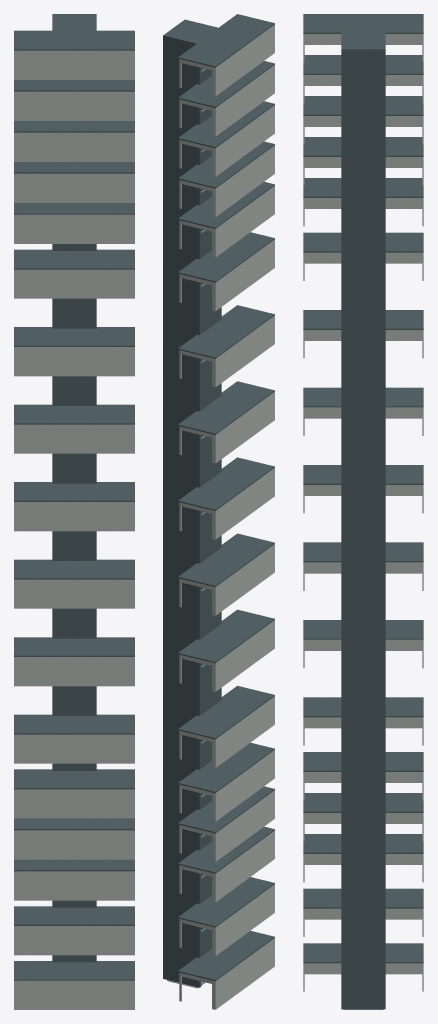
Rendered from AST-STF-G3-002.glb.
The picture shows the model from 3 angles, left to right: view 1: azimuth 90°, elevation 25°; view 2: azimuth 150°, elevation 25°; view 3: azimuth 270°, elevation 25°; orthographic projection.
Visible parts, largest first — view 1: lobby_wall_staff_white_paint_y0, lobby_wall_staff_white_paint_y2, lobby_wall_staff_white_paint_y11, lobby_wall_staff_white_paint_y12, overhead_staff_bluegrey_paint_y3, overhead_staff_bluegrey_paint_y1, overhead_staff_bluegrey_paint_y10, lobby_wall_staff_white_paint_y1, lobby_wall_staff_white_paint_y3, lobby_wall_staff_white_paint_y4, lobby_wall_staff_white_paint_y5, lobby_wall_staff_white_paint_y6 (+23 smaller); view 2: overhead_staff_bluegrey_paint_y3, lobby_wall_staff_white_paint_y2, lobby_wall_staff_white_paint_y11, lobby_wall_staff_white_paint_y12, lobby_wall_staff_white_paint_y0, overhead_staff_bluegrey_paint_y1, overhead_staff_bluegrey_paint_y10, shaft_architecture_staff_bluegrey_paint_y7, overhead_staff_bluegrey_paint_y13, shaft_architecture_staff_bluegrey_paint_y5, shaft_architecture_staff_bluegrey_paint_y6, shaft_architecture_staff_bluegrey_paint_y4 (+28 smaller); view 3: shaft_architecture_staff_bluegrey_paint_y0, shaft_architecture_staff_bluegrey_paint_y1, shaft_architecture_staff_bluegrey_paint_y2, shaft_architecture_staff_bluegrey_paint_y3, shaft_architecture_staff_bluegrey_paint_y4, shaft_architecture_staff_bluegrey_paint_y5, shaft_architecture_staff_bluegrey_paint_y10, shaft_architecture_staff_bluegrey_paint_y11, shaft_architecture_staff_bluegrey_paint_y12, shaft_architecture_staff_bluegrey_paint_y6, shaft_architecture_staff_bluegrey_paint_y7, shaft_architecture_staff_bluegrey_paint_y8 (+28 smaller).
Part boxes in pixels (x1=…): lobby_wall_staff_white_paint_y0: x1=14, y1=926, x2=134, y2=1009; lobby_wall_staff_white_paint_y2: x1=14, y1=789, x2=134, y2=859; lobby_wall_staff_white_paint_y11: x1=14, y1=132, x2=134, y2=202; lobby_wall_staff_white_paint_y12: x1=14, y1=50, x2=134, y2=120; overhead_staff_bluegrey_paint_y3: x1=14, y1=714, x2=134, y2=789; overhead_staff_bluegrey_paint_y1: x1=14, y1=859, x2=134, y2=925; overhead_staff_bluegrey_paint_y10: x1=14, y1=203, x2=134, y2=269; lobby_wall_staff_white_paint_y1: x1=14, y1=871, x2=134, y2=900; lobby_wall_staff_white_paint_y3: x1=14, y1=734, x2=134, y2=763; lobby_wall_staff_white_paint_y4: x1=14, y1=657, x2=134, y2=686; lobby_wall_staff_white_paint_y5: x1=14, y1=579, x2=134, y2=608; lobby_wall_staff_white_paint_y6: x1=14, y1=502, x2=134, y2=531; overhead_staff_bluegrey_paint_y3: x1=178, y1=685, x2=274, y2=792; lobby_wall_staff_white_paint_y2: x1=179, y1=750, x2=274, y2=861; lobby_wall_staff_white_paint_y11: x1=179, y1=105, x2=274, y2=217; lobby_wall_staff_white_paint_y12: x1=179, y1=24, x2=274, y2=136; lobby_wall_staff_white_paint_y0: x1=179, y1=884, x2=274, y2=1009; overhead_staff_bluegrey_paint_y1: x1=178, y1=826, x2=274, y2=927; overhead_staff_bluegrey_paint_y10: x1=178, y1=181, x2=274, y2=282; shaft_architecture_staff_bluegrey_paint_y7: x1=163, y1=360, x2=221, y2=485; overhead_staff_bluegrey_paint_y13: x1=163, y1=14, x2=274, y2=67; shaft_architecture_staff_bluegrey_paint_y5: x1=163, y1=512, x2=221, y2=628; shaft_architecture_staff_bluegrey_paint_y6: x1=163, y1=436, x2=221, y2=557; shaft_architecture_staff_bluegrey_paint_y4: x1=163, y1=588, x2=221, y2=700; shaft_architecture_staff_bluegrey_paint_y0: x1=341, y1=936, x2=385, y2=1009; shaft_architecture_staff_bluegrey_paint_y1: x1=341, y1=863, x2=385, y2=936; shaft_architecture_staff_bluegrey_paint_y2: x1=341, y1=790, x2=385, y2=863; shaft_architecture_staff_bluegrey_paint_y3: x1=341, y1=717, x2=385, y2=790; shaft_architecture_staff_bluegrey_paint_y4: x1=341, y1=644, x2=385, y2=717; shaft_architecture_staff_bluegrey_paint_y5: x1=341, y1=571, x2=385, y2=644; shaft_architecture_staff_bluegrey_paint_y10: x1=341, y1=207, x2=385, y2=280; shaft_architecture_staff_bluegrey_paint_y11: x1=341, y1=134, x2=385, y2=207; shaft_architecture_staff_bluegrey_paint_y12: x1=341, y1=61, x2=385, y2=134; shaft_architecture_staff_bluegrey_paint_y6: x1=341, y1=499, x2=385, y2=571; shaft_architecture_staff_bluegrey_paint_y7: x1=341, y1=426, x2=385, y2=498; shaft_architecture_staff_bluegrey_paint_y8: x1=341, y1=353, x2=385, y2=425.
Size of the model in its own units: 8.32 by 106 by 12.
Materials: 4 (4 with a texture image).
